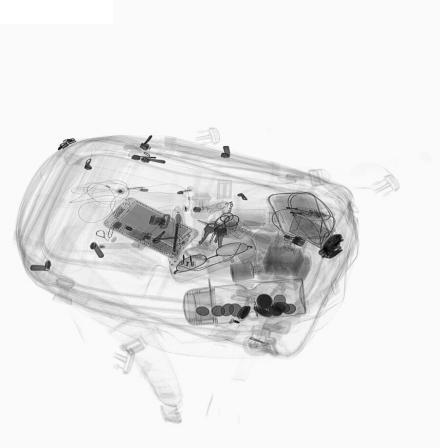Lighter: (133, 216, 171, 250)
